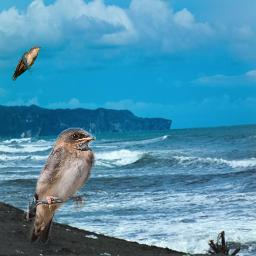Cuckoo: (11, 46, 41, 82)
Swallow: (22, 127, 96, 244)
